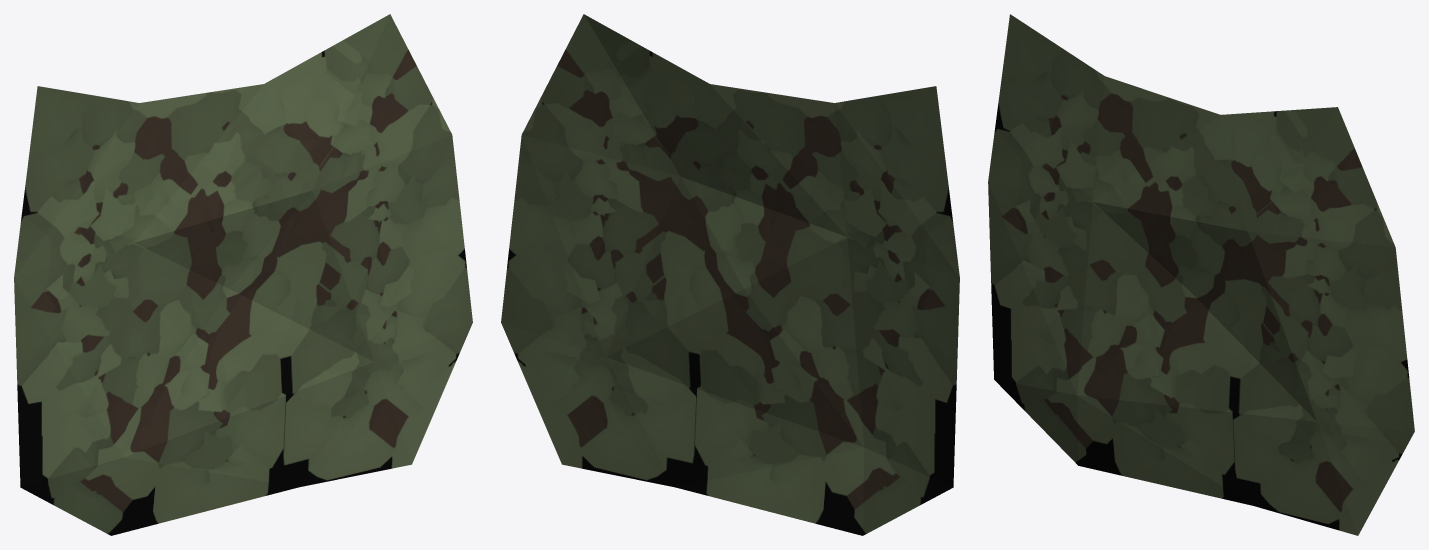
Rendered from SM_Gen_Env_Ivy_01.gltf.
3 views of the same model, side by side, from view 1: azimuth 30°, elevation 25°; view 2: azimuth 150°, elevation 25°; view 3: azimuth 330°, elevation 25° (orthographic). The views are drawn at different scales.
Visible parts, largest first — view 1: SM_Gen_Env_Ivy_01; view 2: SM_Gen_Env_Ivy_01; view 3: SM_Gen_Env_Ivy_01.
Boxes of the visible parts, x1,y1,x2,y2 form: SM_Gen_Env_Ivy_01: [14, 14, 472, 535]; SM_Gen_Env_Ivy_01: [501, 14, 959, 535]; SM_Gen_Env_Ivy_01: [988, 14, 1414, 535].
Bounding box in the file's own units: 2.39 × 2.34 × 0.0857.
Materials: 1 (1 with a texture image).
